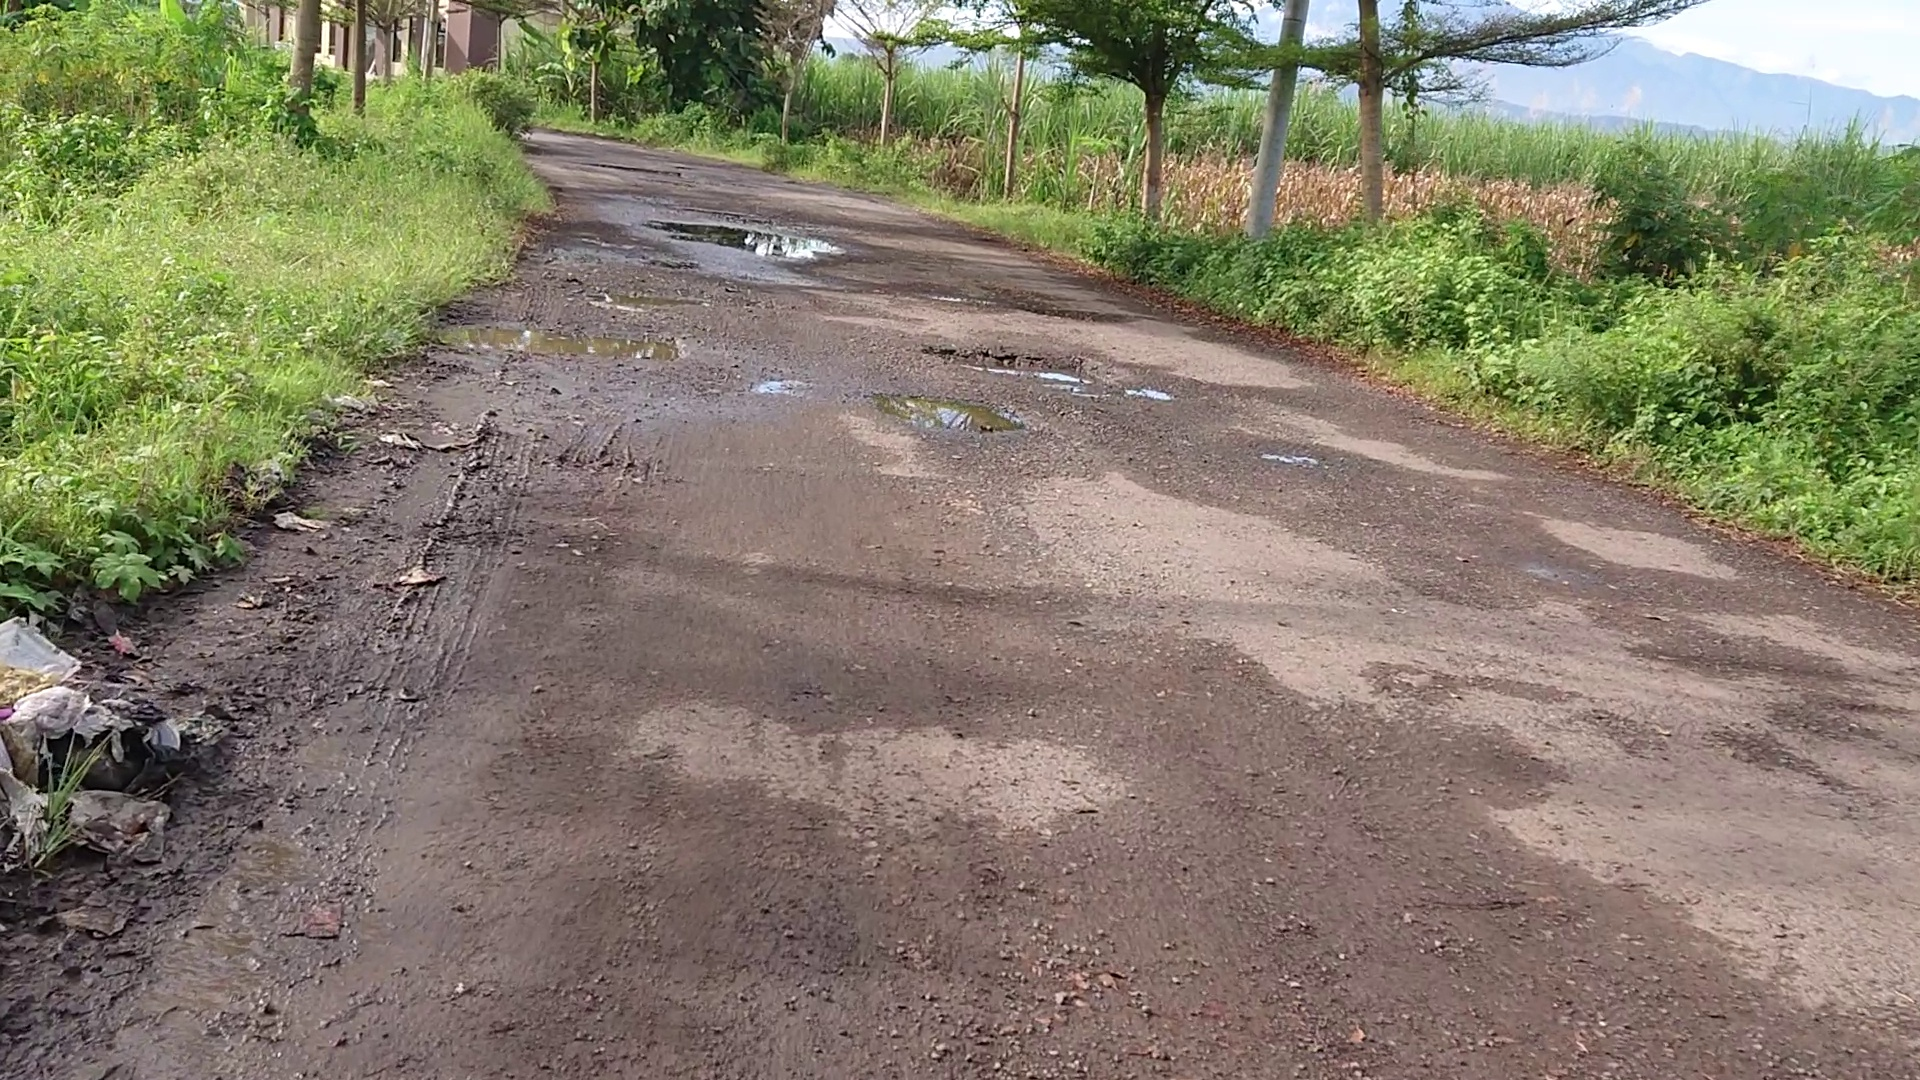Berlubang: (843, 342, 1179, 436), (450, 307, 684, 372), (657, 212, 843, 270)
